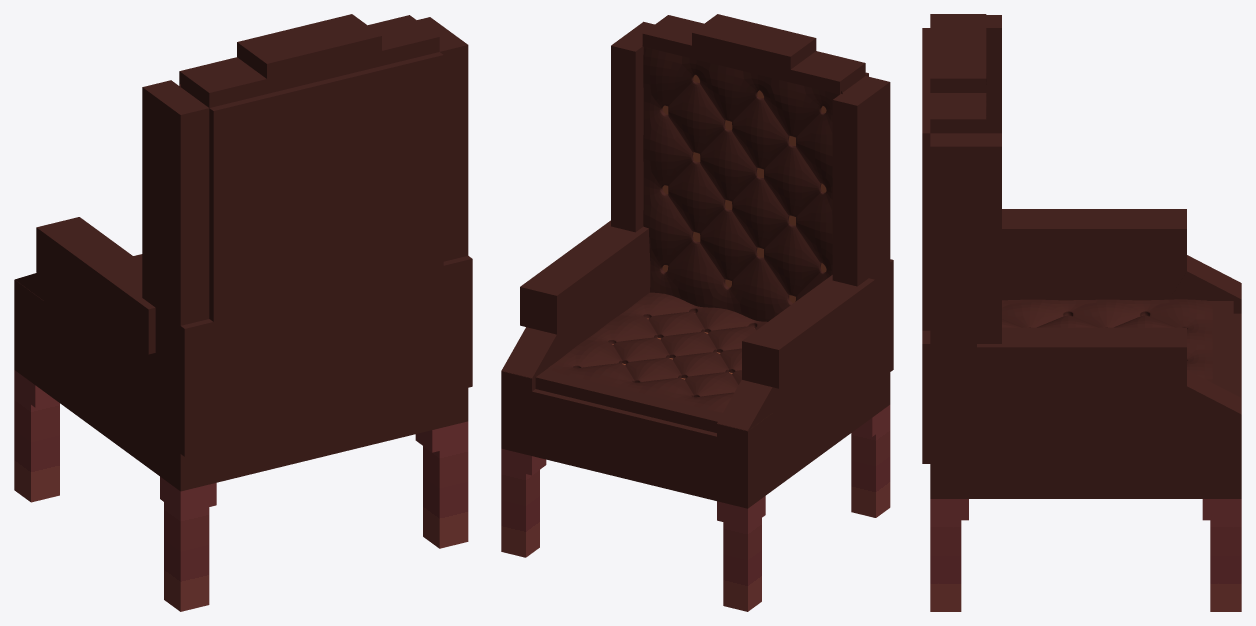
Rendered from leather_chair_1.gltf.
3 views of the same model, side by side, from view 1: azimuth 30°, elevation 25°; view 2: azimuth 150°, elevation 25°; view 3: azimuth 270°, elevation 25° (orthographic). The views are drawn at different scales.
Parts seen in each view (by area): view 1: cube (×13); view 2: cube (×20), cushion (×2); view 3: cube (×18), cushion.
Part boxes in pixels (box(x1,y1,x2,y2)): cube (×13): box(14, 14, 472, 611); cube (×20): box(501, 14, 893, 611); cushion (×2): box(548, 47, 842, 412); cube (×18): box(922, 14, 1241, 611); cushion: box(1002, 299, 1212, 382).
Size of the model in its own units: 0.6562 by 1.09 by 0.6406.
4 materials, 4 textured.
